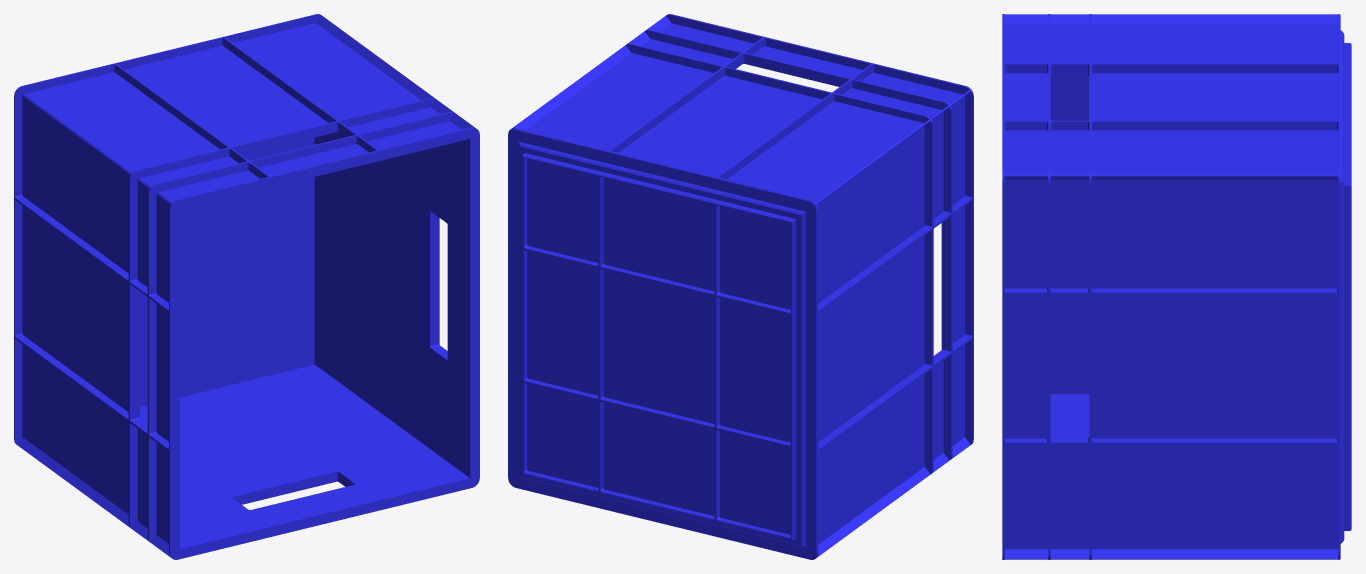
3 renders of one model, left to right at view 1: azimuth 30°, elevation 25°; view 2: azimuth 150°, elevation 25°; view 3: azimuth 270°, elevation 25°, orthographic. The views are drawn at different scales.
Visible parts, largest first — view 1: stackable plastic box; view 2: stackable plastic box; view 3: stackable plastic box.
Part boxes in pixels (x1,y1,x2,y2): stackable plastic box: (14,14,479,559); stackable plastic box: (508,14,973,559); stackable plastic box: (1002,14,1351,559).
Size of the model in its own units: 12.6 by 13.98 by 11.38.
